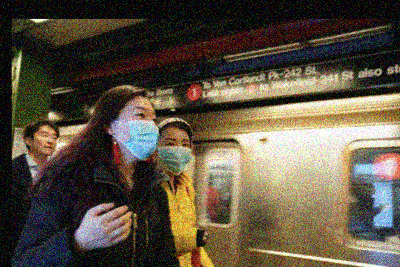with_mask: (116, 104, 160, 161), (157, 136, 193, 177)
without_mask: (33, 128, 58, 154)
